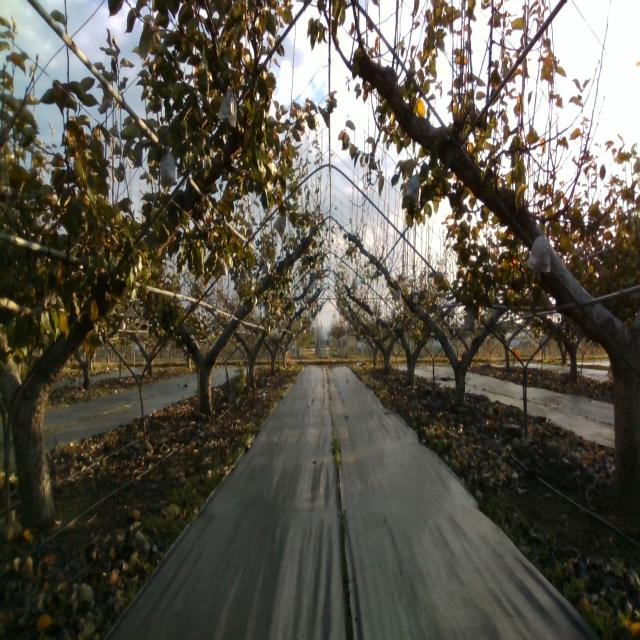pearbags: (527, 230, 551, 273), (218, 84, 238, 128), (160, 145, 175, 187), (405, 171, 420, 203), (273, 213, 287, 242), (214, 253, 228, 280), (463, 307, 476, 333)
